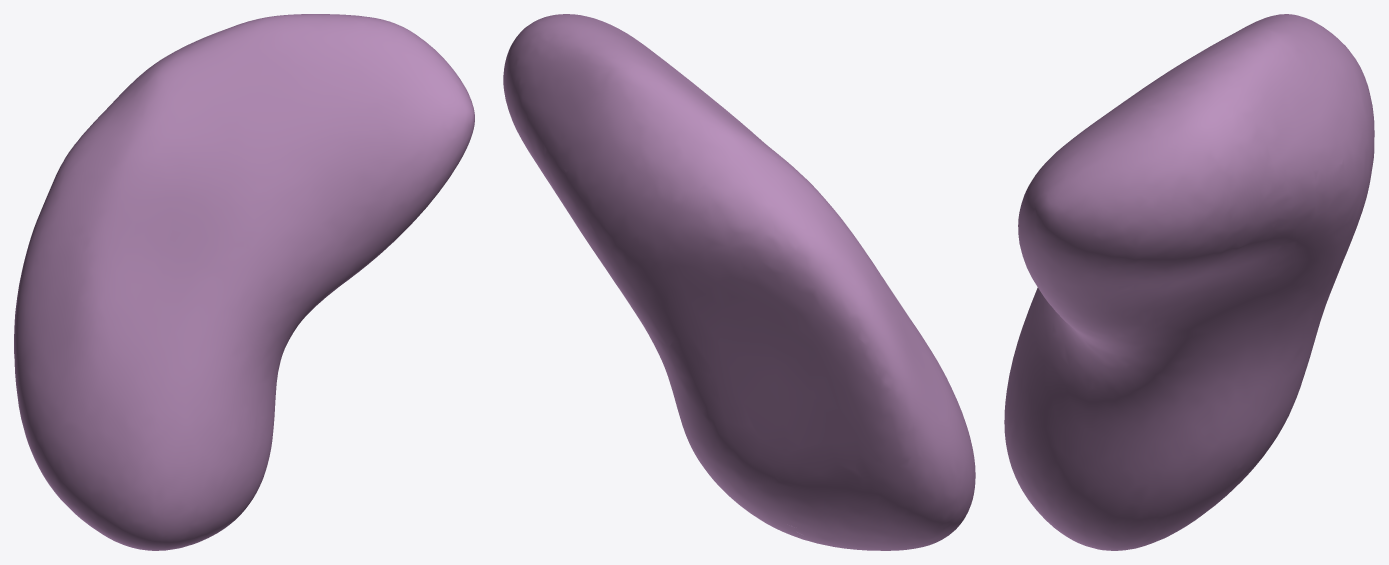
The picture shows the model from 3 angles, left to right: view 1: azimuth 30°, elevation 25°; view 2: azimuth 150°, elevation 25°; view 3: azimuth 270°, elevation 25°; orthographic projection. The views are drawn at different scales.
Parts seen in each view (by area): view 1: 右侧二腹小叶; view 2: 右侧二腹小叶; view 3: 右侧二腹小叶.
Part boxes in pixels (bbox=[...]): 右侧二腹小叶: bbox=[14, 14, 474, 550]; 右侧二腹小叶: bbox=[503, 14, 975, 550]; 右侧二腹小叶: bbox=[1004, 14, 1374, 550].
Size of the model in its own units: 0.0508 by 0.0522 by 0.0295.
